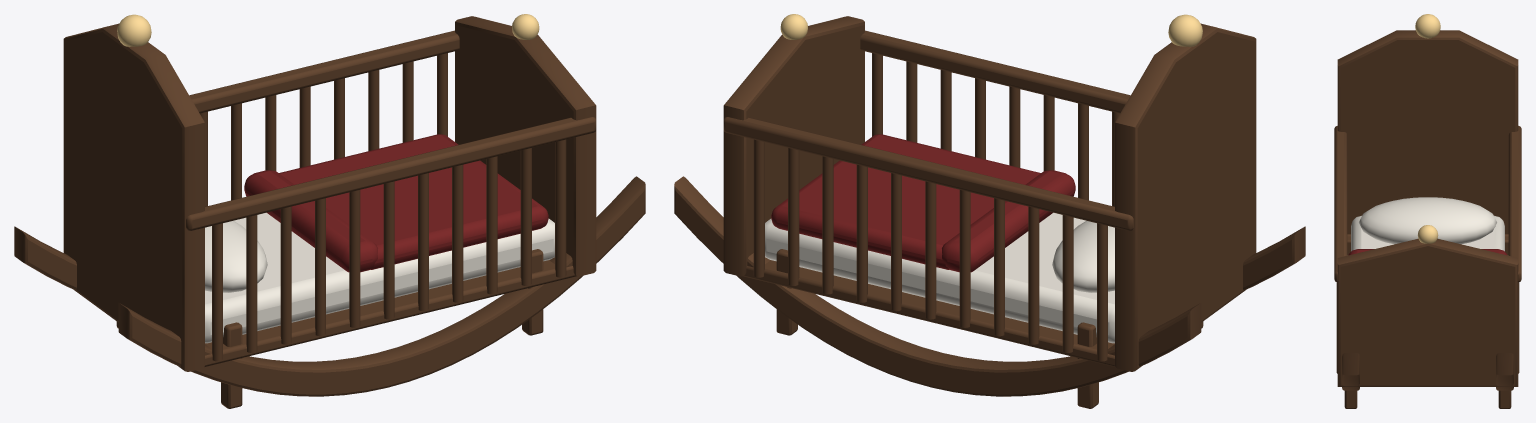
File: cradle_wood.glb
The picture shows the model from 3 angles, left to right: view 1: azimuth 30°, elevation 25°; view 2: azimuth 150°, elevation 25°; view 3: azimuth 270°, elevation 25°; orthographic projection. The views are drawn at different scales.
Parts seen in each view (by area): view 1: head, foot, rocker, blanket, mattress, rail, floor, rail.001, blanketfold, pillow, rocker.001, slat.008 (+21 smaller); view 2: head, foot, rocker.001, blanket, mattress, rail.001, floor, rail, blanketfold, pillow, rocker, slat.019 (+21 smaller); view 3: head, foot, pillow, rail, rail.001, mattress, rocker, rocker.001, knobh, knobf, leg.002, leg.003 (+2 smaller).
Boxes of the visible parts, x1,y1,x2,y2 form: head: (63,23,204,371); foot: (455,16,596,276); rocker: (118,176,645,396); blanket: (279,134,548,269); mattress: (205,212,554,343); rail: (186,117,596,230); floor: (204,260,576,366); rail.001: (189,30,459,113); blanketfold: (244,170,377,272); pillow: (205,220,267,292); rocker.001: (14,226,76,290); slat.008: (486,156,497,294); head: (1115,23,1256,371); foot: (723,16,864,276); rocker.001: (674,176,1201,396); blanket: (771,134,1040,269); mattress: (765,212,1114,343); rail.001: (723,117,1133,230); floor: (743,260,1115,366); rail: (860,30,1130,113); blanketfold: (942,170,1075,272); pillow: (1052,220,1114,292); rocker: (1243,226,1305,290); slat.019: (822,156,833,294); head: (1337,30,1518,234); foot: (1337,238,1518,386); pillow: (1359,197,1496,244); rail: (1334,126,1347,282); rail.001: (1508,126,1521,282); mattress: (1351,215,1504,251); rocker: (1342,234,1359,390); rocker.001: (1496,234,1513,390); knobh: (1415,14,1440,38); knobf: (1417,225,1438,243); leg.002: (1344,390,1357,408); leg.003: (1498,390,1511,408).
Bounding box in the file's own units: 1.72 × 1.2 × 0.73.
